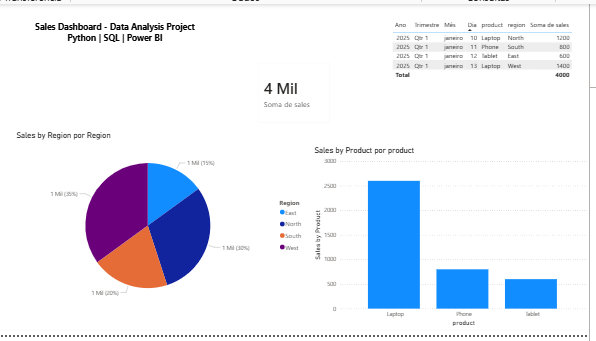

The page's visual inventory and layout, read from the dashboard file:
{"tool":"powerbi","page":{"name":"Página 1","canvas":[1280,720],"ordinal":0},"visuals":[{"type":"pieChart","fields":{"Category":["sales_data.region","sales_data.date.Variation.Hierarquia de datas.Ano","sales_data.date.Variation.Hierarquia de datas.Trimestre","sales_data.date.Variation.Hierarquia de datas.Mês","sales_data.date.Variation.Hierarquia de datas.Dia"],"Y":["Sum(sales_data.sales)"]},"box":[30.8,275.4,645.5,392.2],"z":0},{"type":"lineClusteredColumnComboChart","fields":{"Category":["sales_data.product"],"Y":["Sum(sales_data.sales)"]},"box":[677,309.1,603,396.4],"z":1000},{"type":"cardVisual","fields":{"Data":["Sum(sales_data.sales)"]},"box":[542.6,110.9,191.5,164.6],"z":2000},{"type":"tableEx","fields":{"Values":["sales_data.date.Variation.Hierarquia de datas.Ano","sales_data.date.Variation.Hierarquia de datas.Trimestre","sales_data.date.Variation.Hierarquia de datas.Mês","sales_data.date.Variation.Hierarquia de datas.Dia","sales_data.product","sales_data.region","Sum(sales_data.sales)"]},"box":[846.6,30.2,433.4,147.8],"z":3000},{"type":"textbox","box":[18.5,30.2,460.3,80.6],"z":4000}]}

Visuals, with their boxes on the page's 1280x720 design canvas (x1, y1, x2, y2). These are canvas units, not pixel positions in the 596x341 screenshot, which may show the page scaled, cropped or inside an application window:
pieChart - sales_data.region x sales_data.date.Variation.Hierarquia de datas.Ano: <bbox>31, 275, 676, 668</bbox>
lineClusteredColumnComboChart - sales_data.product x Sum(sales_data.sales): <bbox>677, 309, 1280, 706</bbox>
cardVisual - Sum(sales_data.sales): <bbox>543, 111, 734, 276</bbox>
tableEx - sales_data.date.Variation.Hierarquia de datas.Ano x sales_data.date.Variation.Hierarquia de datas.Trimestre: <bbox>847, 30, 1280, 178</bbox>
textbox: <bbox>18, 30, 479, 111</bbox>
